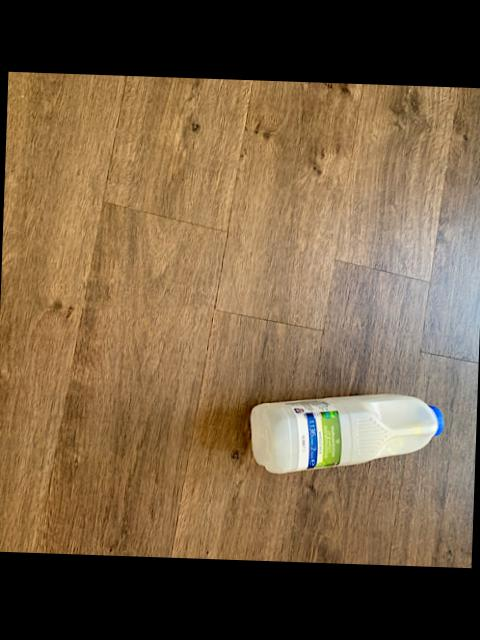plastic: (251, 393, 444, 472)
